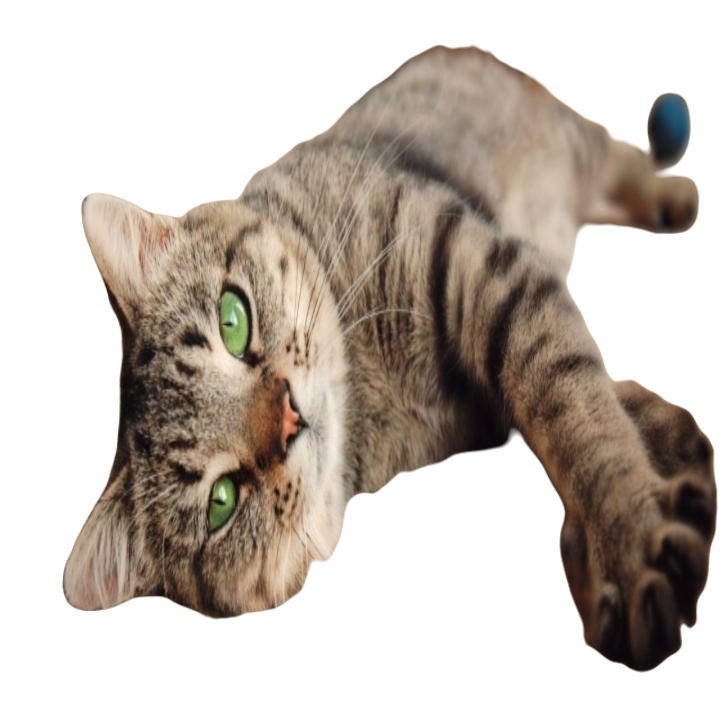Cat: (54, 40, 711, 668)
